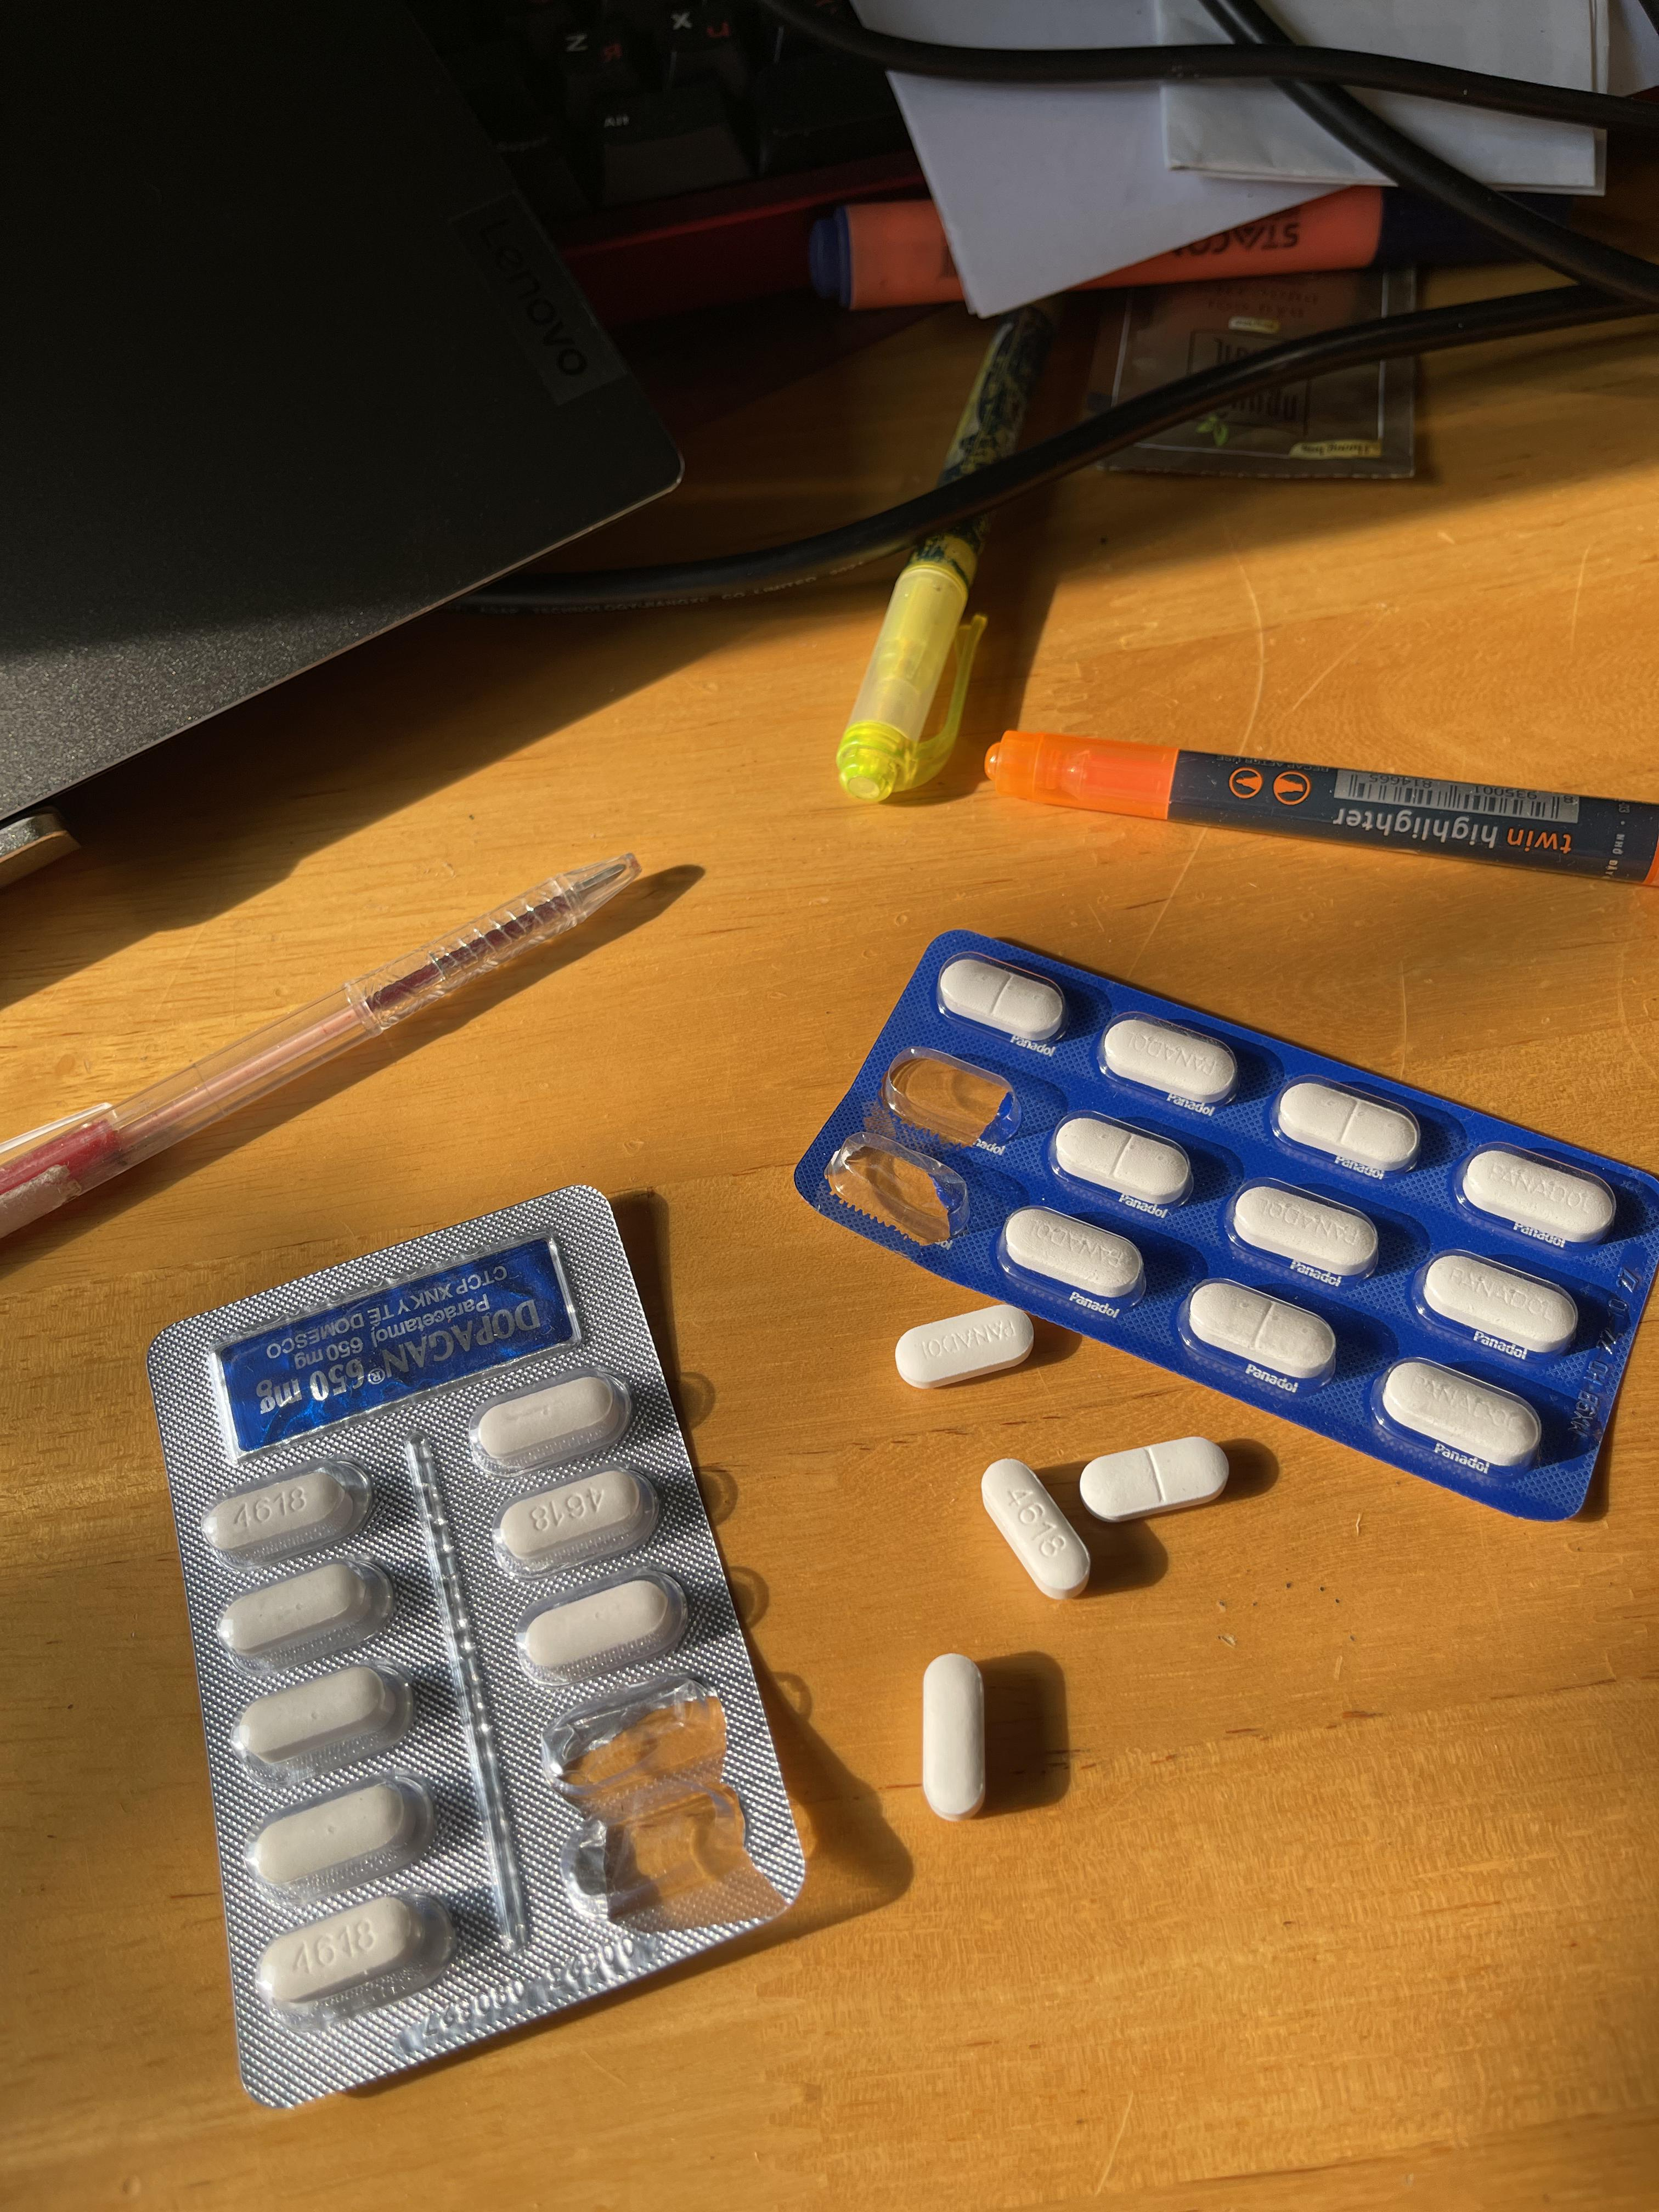Paracetamol_350mg: (1377, 1359, 1549, 1470), (1419, 1251, 1584, 1359), (1459, 1144, 1619, 1245), (1183, 1278, 1338, 1381), (1274, 1076, 1425, 1176), (1229, 1181, 1382, 1278), (999, 1205, 1145, 1301), (1049, 1115, 1197, 1209), (1098, 1015, 1241, 1108), (1080, 1437, 1230, 1519), (896, 1303, 1033, 1390), (941, 956, 1068, 1043)
Paracetamol_500mg: (249, 1778, 416, 1892), (232, 1658, 404, 1768), (495, 1463, 660, 1576), (518, 1573, 687, 1681), (213, 1555, 380, 1660), (263, 1897, 416, 2005), (200, 1463, 369, 1561), (471, 1371, 627, 1472), (979, 1460, 1091, 1595), (922, 1653, 986, 1822)
